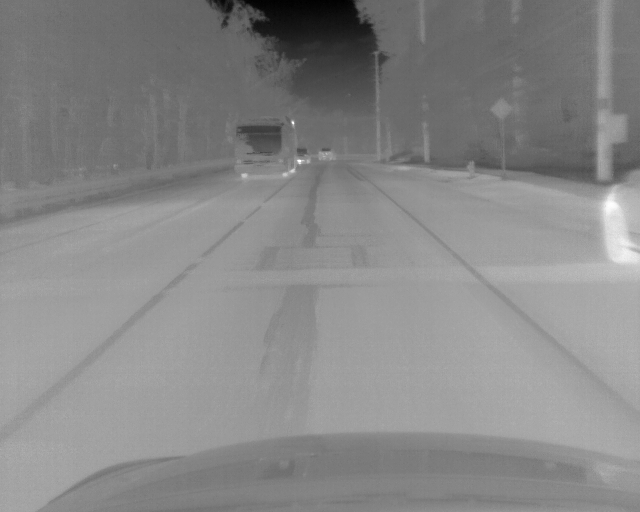car: (233, 115, 296, 180), (602, 164, 640, 267), (295, 146, 310, 164), (317, 147, 335, 161)
